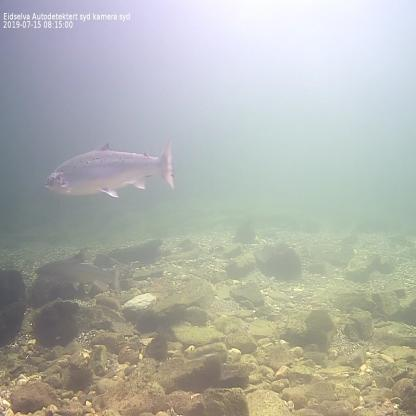salmon: (44, 136, 176, 202), (32, 249, 123, 296)
